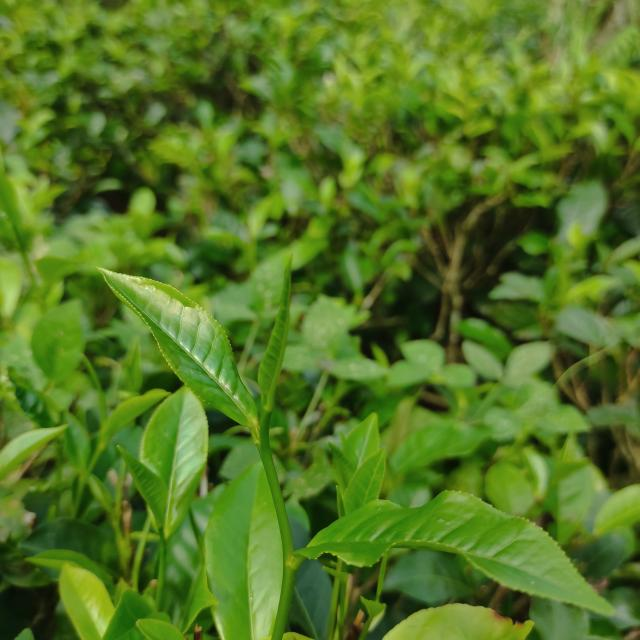unopened_leaf: (251, 246, 308, 420), (77, 345, 114, 440)
